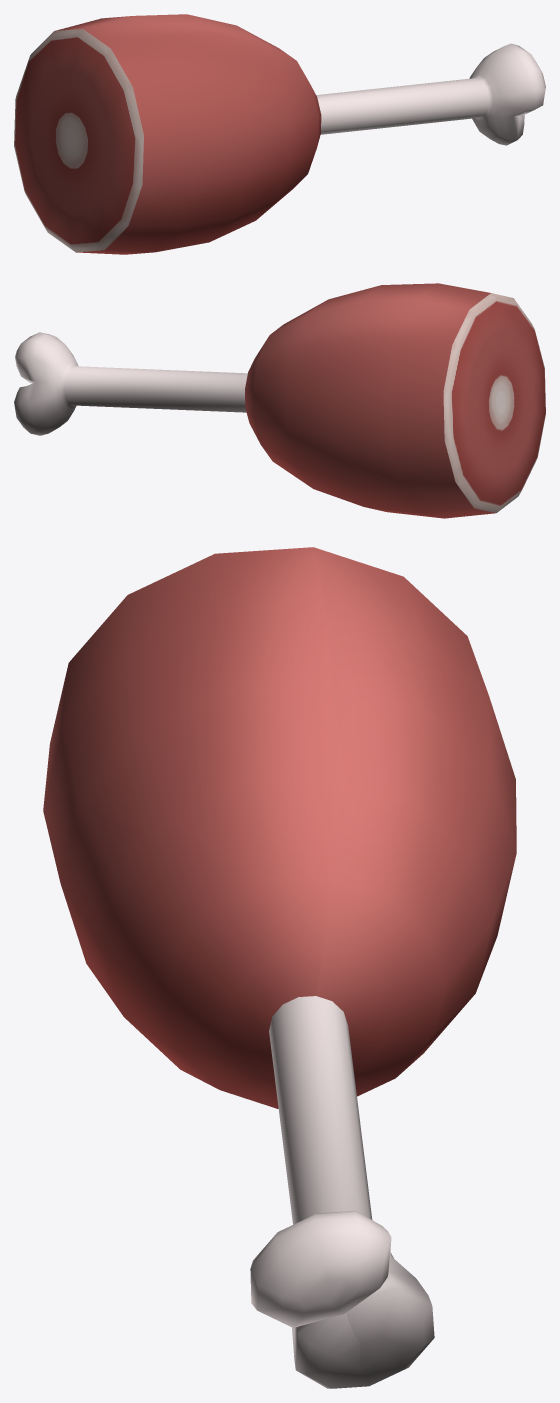
Rendered from Mimic_Mayhem_HamBone.FBX.
3 views of the same model, one above another, from view 1: azimuth 30°, elevation 25°; view 2: azimuth 150°, elevation 25°; view 3: azimuth 270°, elevation 25° (orthographic). The views are drawn at different scales.
Parts seen in each view (by area): view 1: Cylinder001; view 2: Cylinder001; view 3: Cylinder001.
Part boxes in pixels (x1,y1,x2,y2): Cylinder001: (14, 14, 545, 254); Cylinder001: (14, 283, 545, 518); Cylinder001: (43, 547, 516, 1388).
Size of the model in its own units: 71.89 by 31.22 by 30.78.
